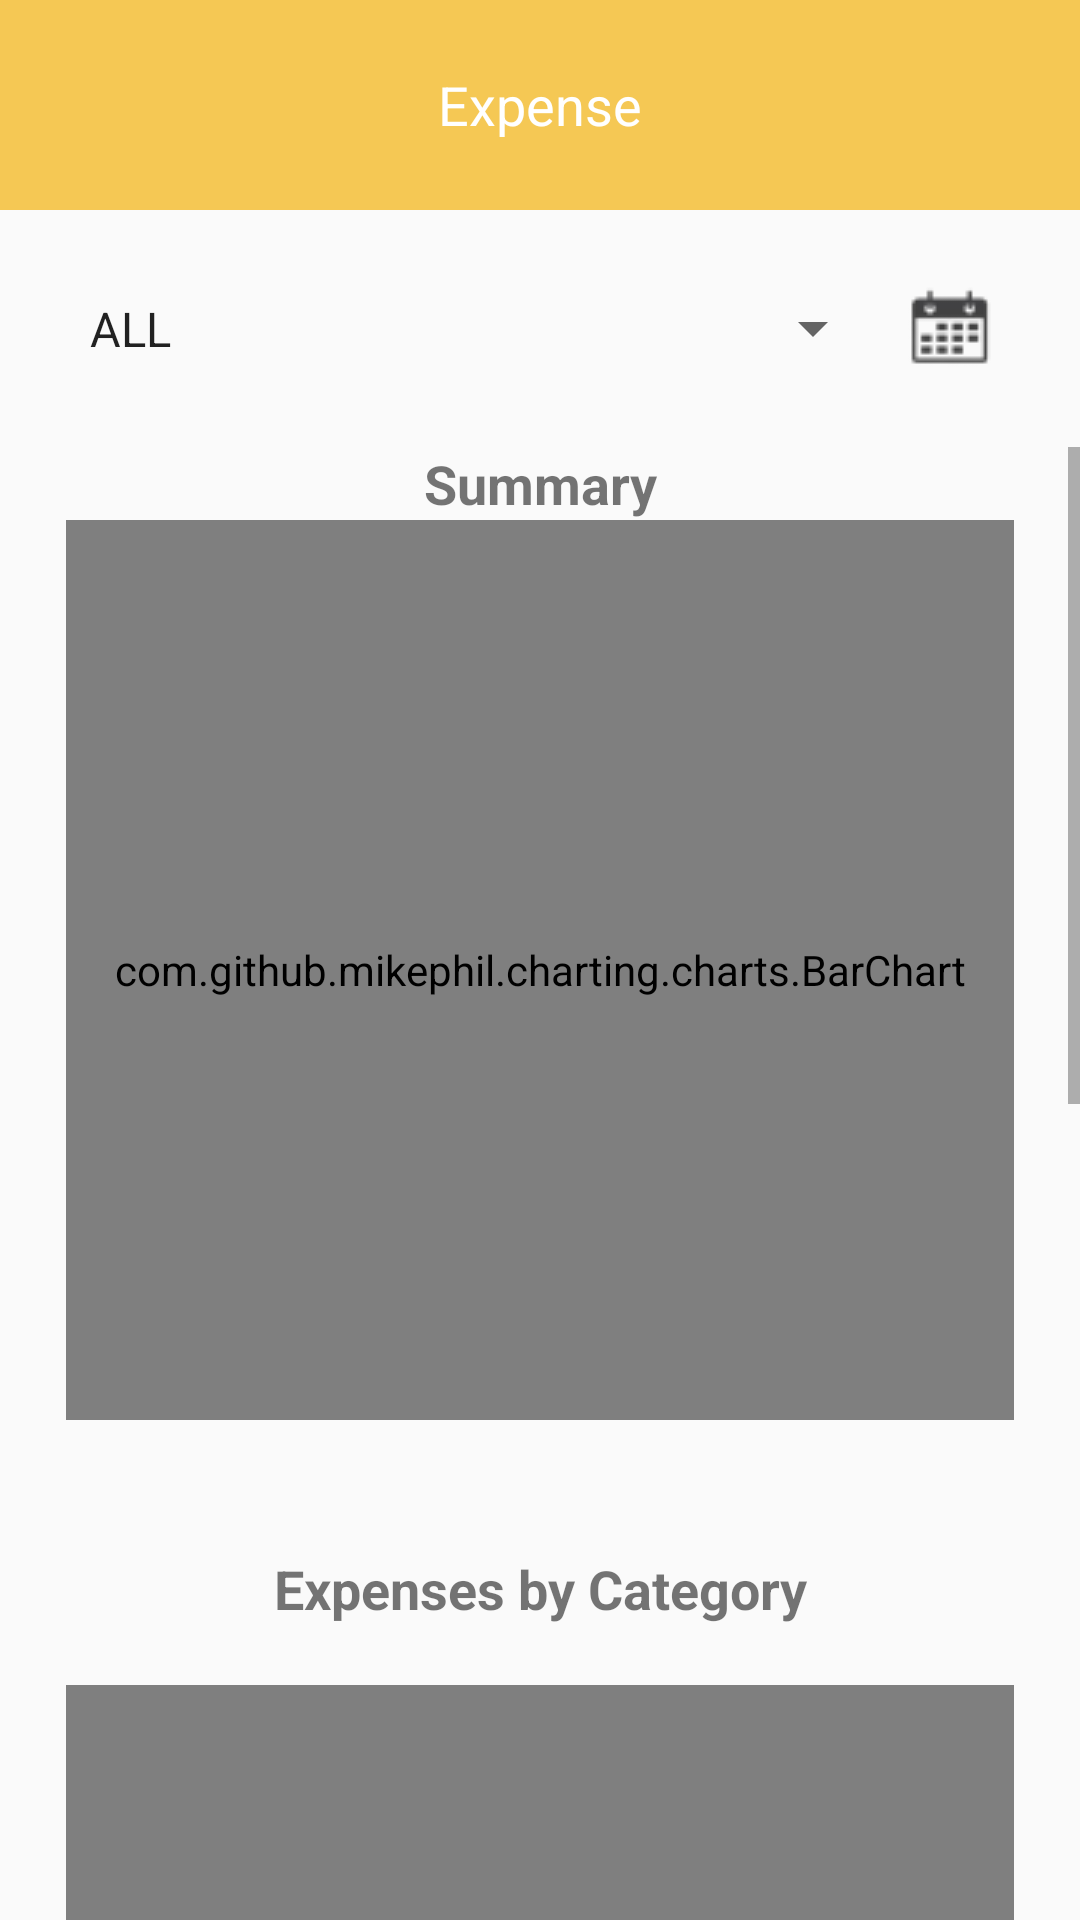

Icon click points for this 1080px×1920px phone screenshot, format (x,y):
home page calendar: (949,327)
